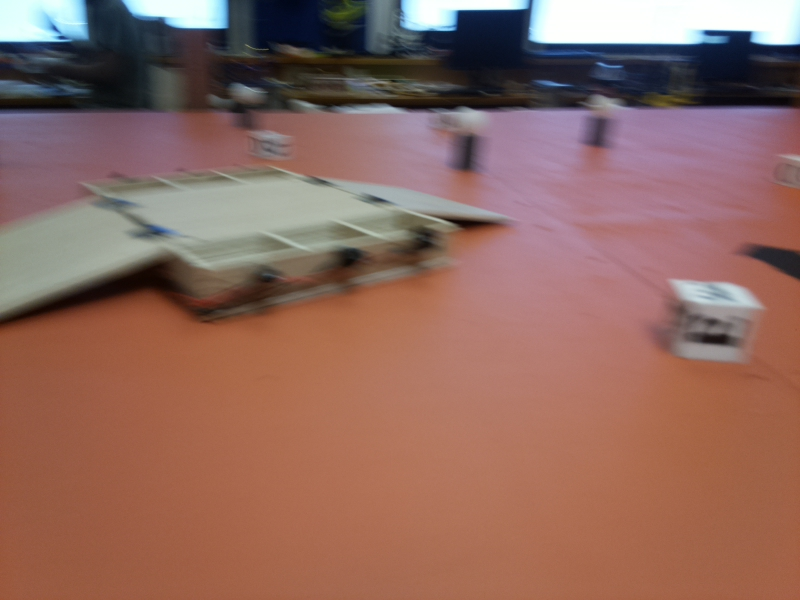blockE: (667, 283, 763, 363)
obstacle: (453, 109, 484, 169), (583, 98, 614, 149)
side: (206, 220, 443, 308)
slope: (2, 197, 143, 303)
